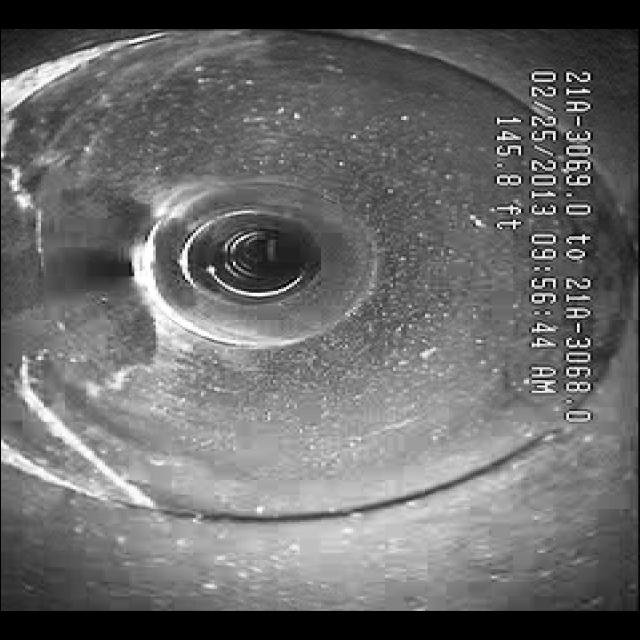Crack: (11, 368, 165, 506)
